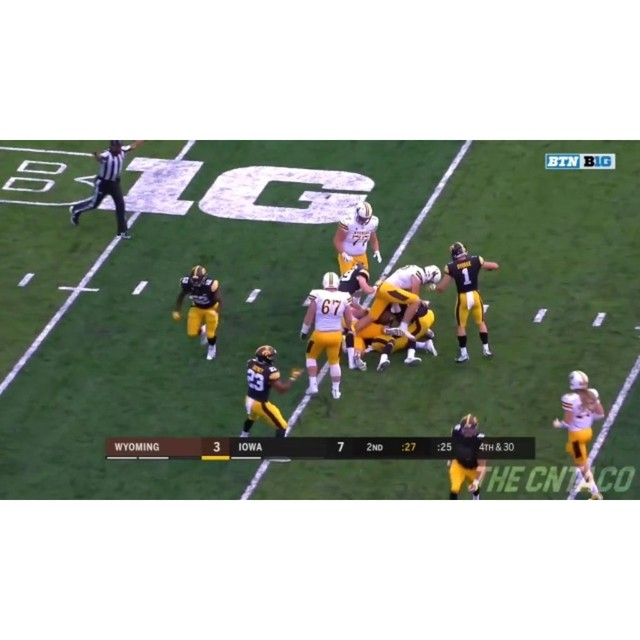american-football-player: (300, 270, 355, 414), (441, 242, 501, 362), (553, 369, 606, 497), (360, 263, 442, 334), (172, 264, 222, 362), (239, 345, 291, 439), (384, 287, 438, 357), (333, 200, 382, 277), (447, 414, 487, 500), (336, 258, 376, 306)
referee: (68, 141, 137, 237)
